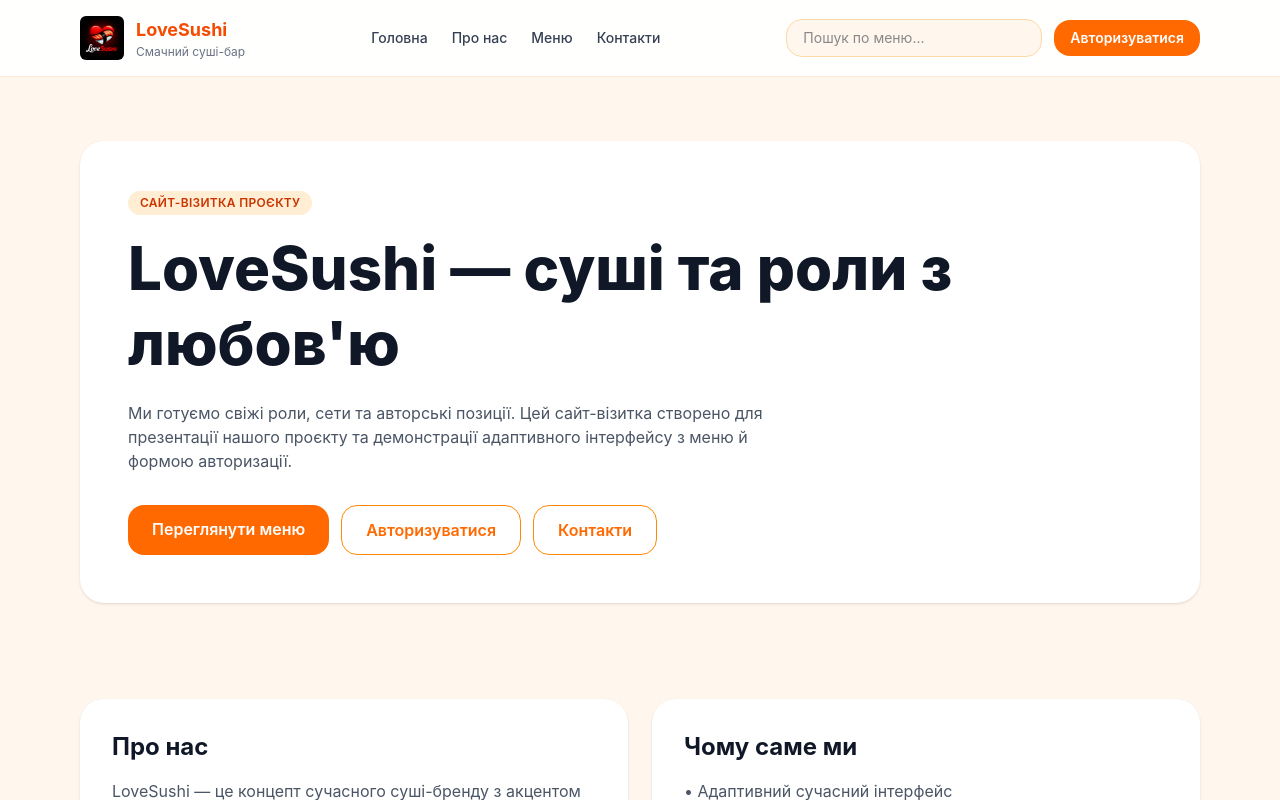
Test case: 5. Product search with uppercase input › Should find the product "Філадельфія" when entered with an uppercase first letter
Type "Філадельфія" into the field with placeholder "Пошук по меню..." at (914, 38), box 786,19 -> 1042,57
Then press Enter
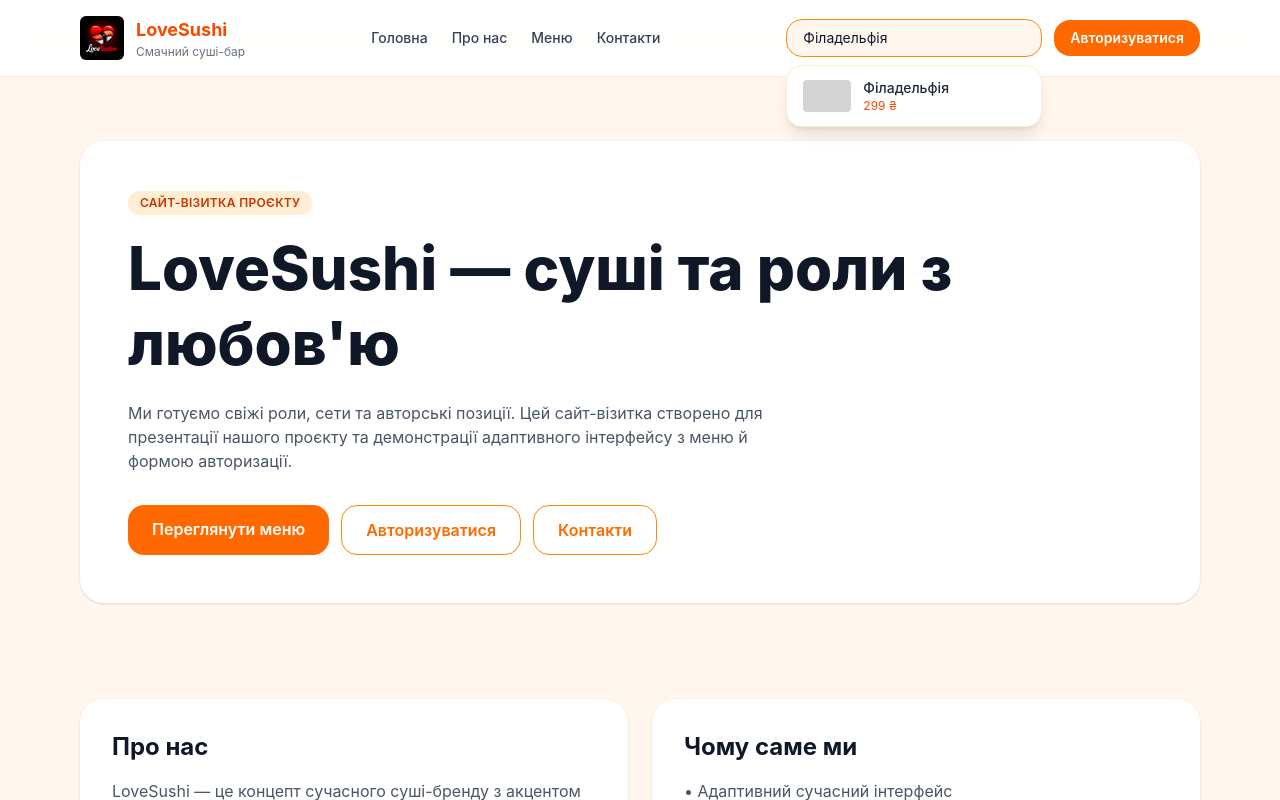
Now the button "Філадельфія 299 ₴" is shown, box 787,66 -> 1041,126
